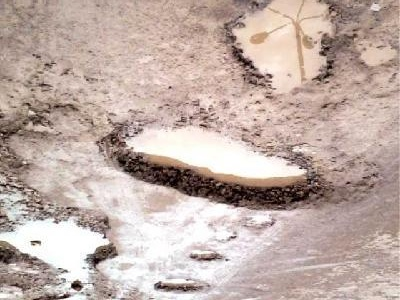pothole: (101, 108, 380, 213), (0, 138, 122, 299), (220, 0, 339, 100), (0, 106, 62, 137), (154, 274, 211, 295), (355, 44, 398, 69), (239, 213, 276, 231), (208, 224, 237, 244), (187, 247, 224, 262)
